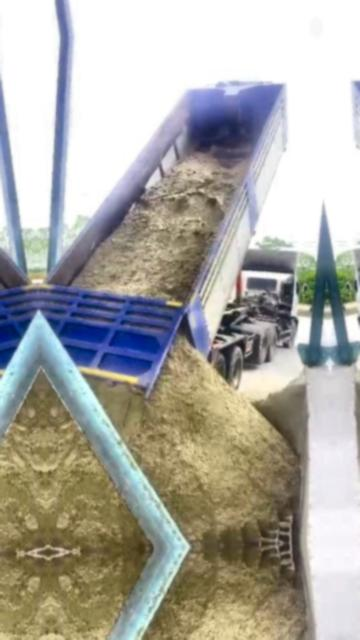sand: (92, 336, 303, 546), (74, 146, 247, 300), (42, 384, 150, 552)
